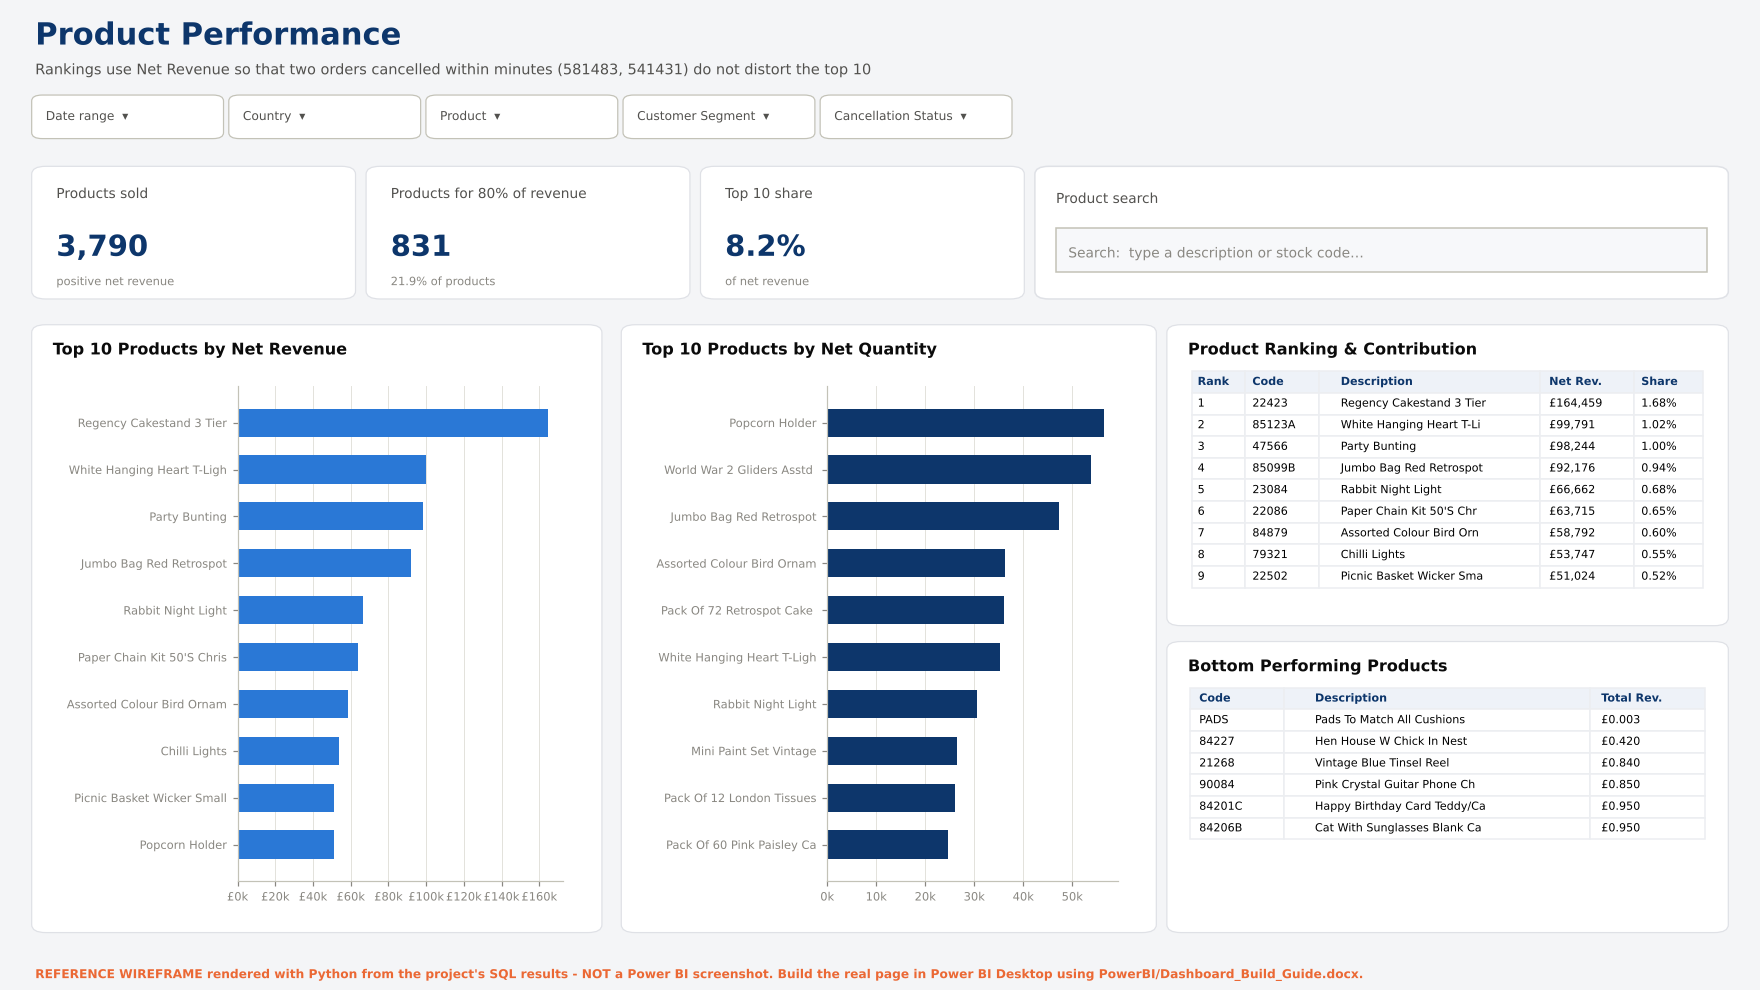

Layout of this report page (visuals, bound fields, positions):
{"tool":"powerbi","page":{"name":"Product Performance","canvas":[1920,1080],"ordinal":1},"visuals":[{"type":"clusteredBarChart","fields":{"Category":["DimProduct.Product"],"Y":["FactSales.Total Revenue"]},"box":[0,0,972.8,523.4],"z":0},{"type":"donutChart","fields":{"Category":["DimProduct.ItemType"],"Y":["FactSales.Total Revenue"]},"box":[972.8,0,947.2,523.4],"z":1000},{"type":"clusteredColumnChart","fields":{"Category":["DimProduct.Product"],"Y":["Sum(FactSales.Quantity)"]},"box":[0,523.4,972.8,558.1],"z":2000},{"type":"tableEx","fields":{"Values":["DimProduct.StockCode","DimProduct.Description","FactSales.Total Revenue","Sum(FactSales.Quantity)"]},"box":[972.8,523.4,947.2,558.1],"z":3000}]}

Visuals, with their boxes in screenshot pixels (x1, y1, x2, y2), scaled from the page's 1920x1080 canvas onto the 1760x990 screenshot:
clusteredBarChart - DimProduct.Product x FactSales.Total Revenue: (0,0,892,480)
donutChart - DimProduct.ItemType x FactSales.Total Revenue: (892,0,1759,480)
clusteredColumnChart - DimProduct.Product x Sum(FactSales.Quantity): (0,480,892,989)
tableEx - DimProduct.StockCode x DimProduct.Description: (892,480,1759,989)
